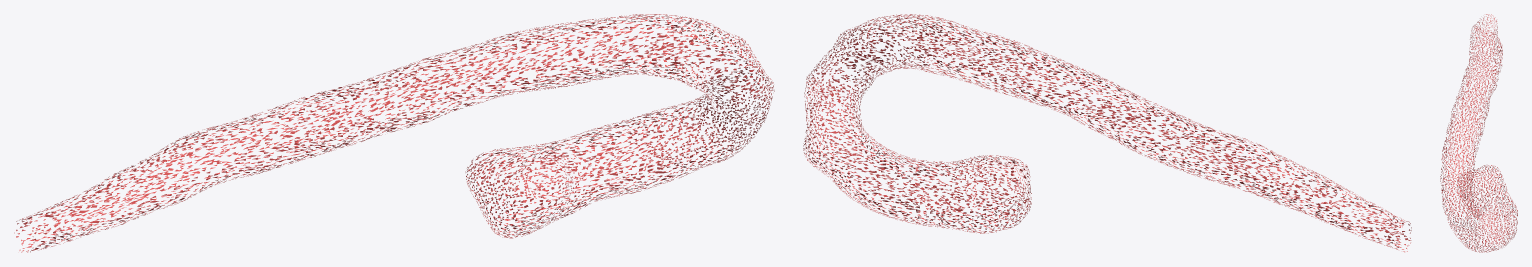
Rendered from aorta.glb.
The picture shows the model from 3 angles, left to right: view 1: azimuth 30°, elevation 25°; view 2: azimuth 150°, elevation 25°; view 3: azimuth 270°, elevation 25°; orthographic projection. The views are drawn at different scales.
Size of the model in its own units: 298 by 82.23 by 50.33.
